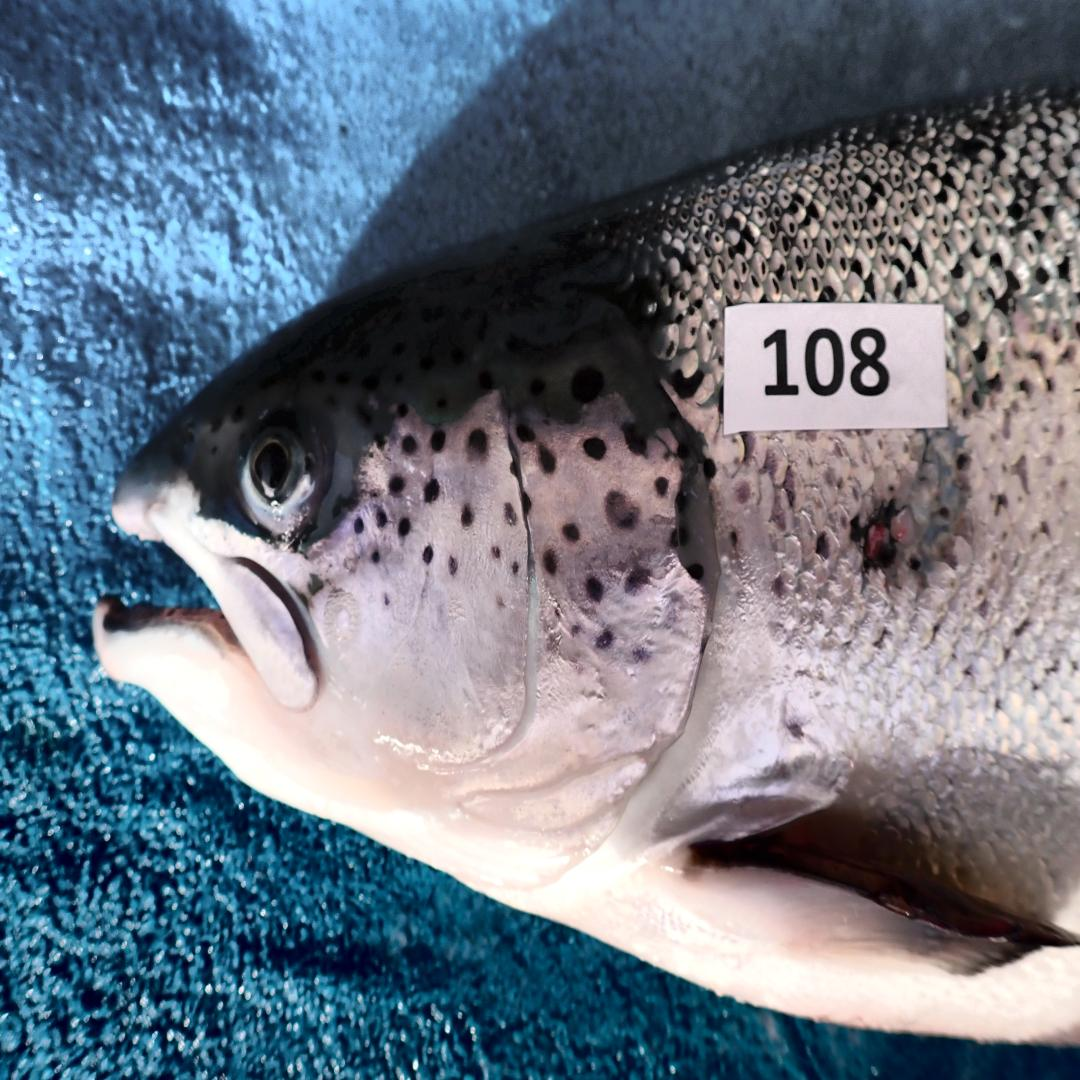spot: (605, 489, 639, 529), (571, 366, 604, 404), (622, 425, 648, 456), (624, 565, 650, 593), (582, 436, 605, 461), (468, 428, 487, 456), (595, 627, 614, 650), (586, 577, 603, 602), (424, 478, 441, 503), (671, 526, 690, 548), (401, 433, 418, 456), (686, 562, 705, 582), (540, 447, 555, 472), (631, 647, 652, 664), (430, 430, 445, 453), (654, 475, 669, 498), (563, 523, 580, 543), (388, 475, 405, 495), (544, 548, 557, 574), (517, 425, 536, 442), (521, 489, 532, 518), (504, 503, 517, 526), (675, 492, 688, 512), (508, 456, 519, 478), (376, 508, 388, 528), (462, 503, 472, 526), (399, 518, 411, 537), (373, 434, 386, 450), (676, 442, 688, 459), (447, 557, 458, 574), (354, 518, 365, 534), (496, 593, 506, 610), (570, 624, 582, 638), (422, 546, 432, 562), (510, 560, 521, 574), (491, 546, 500, 560), (371, 549, 380, 563), (399, 402, 407, 416), (384, 593, 389, 606), (556, 608, 562, 618)
